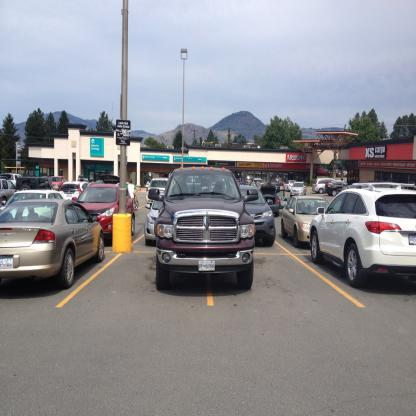Car: (146, 165, 416, 289), (0, 171, 135, 291)
